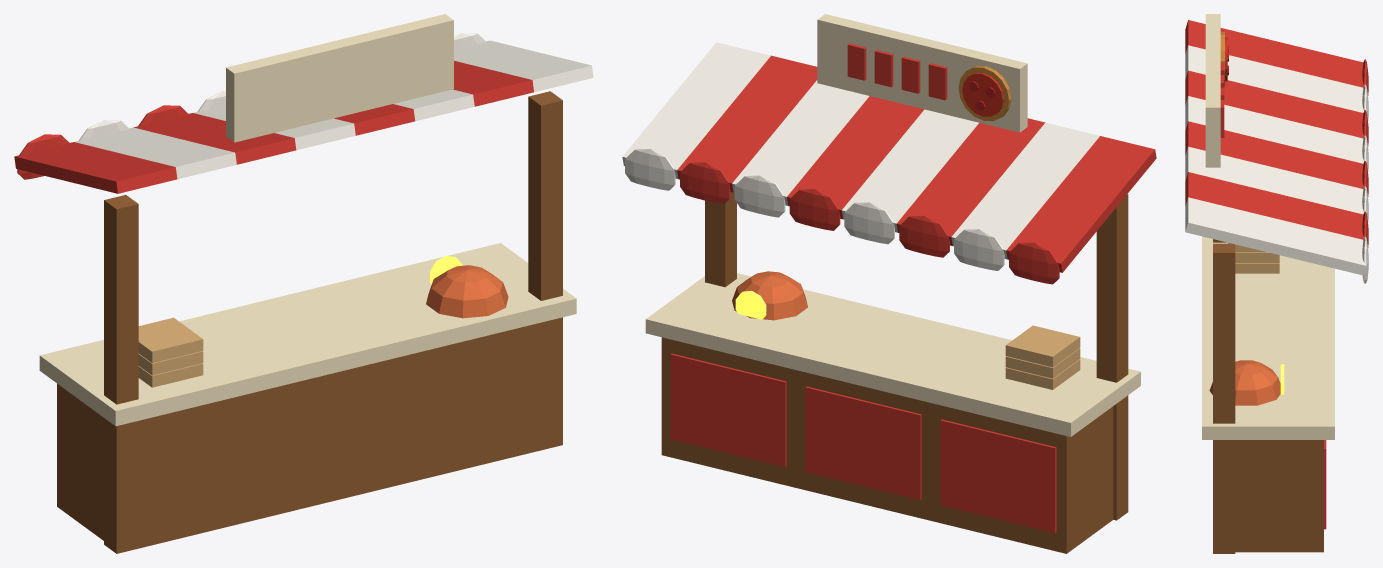
Rendered from PizzaStand.fbx.
3 renders of one model, left to right at view 1: azimuth 30°, elevation 25°; view 2: azimuth 150°, elevation 25°; view 3: azimuth 270°, elevation 25°, orthographic. The views are drawn at different scales.
Parts seen in each view (by area): view 1: Wood, CounterTop, Posts, SignBoard, AwningRed, AwningWhite, CounterBoxes, CounterOven; view 2: AwningRed, AwningWhite, CounterTop, CounterPanels, Wood, SignBoard, Posts, CounterBoxes, SignText, CounterOven, SignSauce, SignCrust (+1 smaller); view 3: AwningWhite, CounterTop, AwningRed, Wood, Posts, SignBoard, CounterOven, CounterBoxes, SignText, CounterPanels.
Part boxes in pixels (bbox=[...]): Wood: bbox=[57, 322, 559, 552]; CounterTop: bbox=[39, 243, 576, 426]; Posts: bbox=[104, 91, 562, 553]; SignBoard: bbox=[226, 14, 453, 142]; AwningRed: bbox=[14, 60, 533, 193]; AwningWhite: bbox=[74, 32, 593, 179]; CounterBoxes: bbox=[138, 317, 203, 387]; CounterOven: bbox=[426, 265, 508, 318]; AwningRed: bbox=[677, 55, 1156, 284]; AwningWhite: bbox=[622, 42, 1099, 270]; CounterTop: bbox=[645, 273, 1140, 436]; CounterPanels: bbox=[670, 353, 1056, 532]; Wood: bbox=[661, 337, 1113, 553]; SignBoard: bbox=[817, 14, 1027, 132]; Posts: bbox=[705, 192, 1128, 520]; CounterBoxes: bbox=[1005, 325, 1080, 389]; SignText: bbox=[847, 43, 947, 100]; CounterOven: bbox=[732, 271, 807, 320]; SignSauce: bbox=[962, 73, 1003, 116]; SignCrust: bbox=[958, 66, 1011, 121]; AwningWhite: bbox=[1185, 45, 1368, 283]; CounterTop: bbox=[1202, 236, 1334, 439]; AwningRed: bbox=[1185, 20, 1368, 247]; Wood: bbox=[1235, 440, 1323, 552]; Posts: bbox=[1213, 239, 1235, 553]; SignBoard: bbox=[1205, 14, 1220, 167]; CounterOven: bbox=[1209, 360, 1280, 405]; CounterBoxes: bbox=[1228, 243, 1279, 273]; SignText: bbox=[1220, 62, 1224, 137]; CounterPanels: bbox=[1324, 440, 1326, 529].
Size of the model in its own units: 13 by 11.9 by 4.97.
